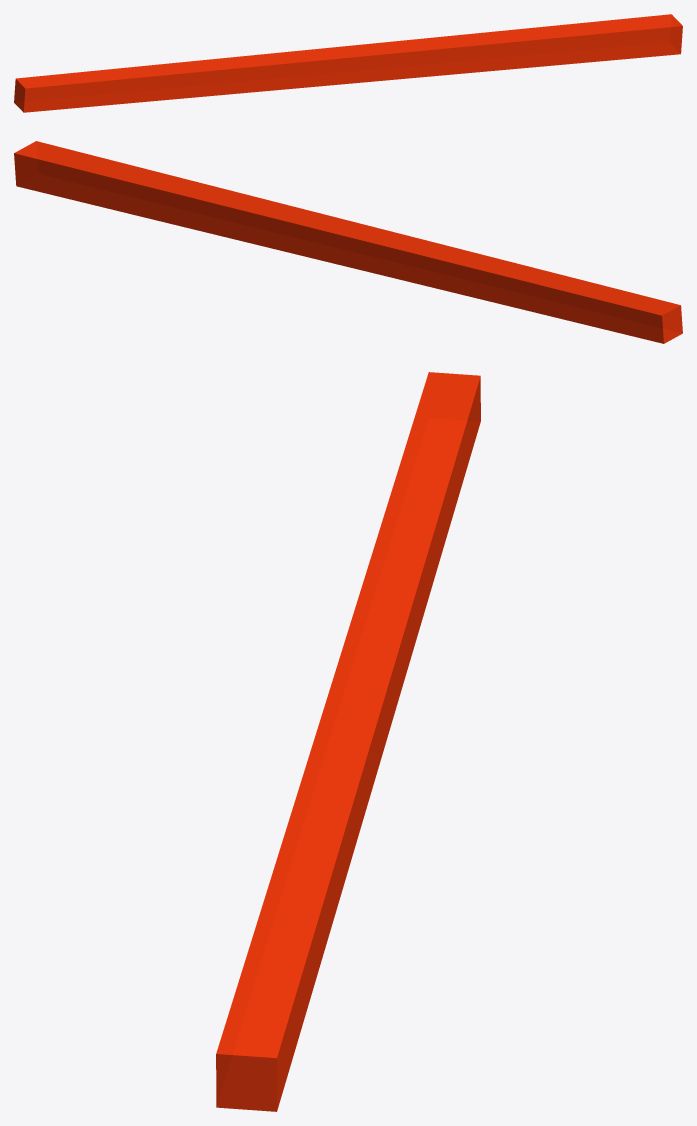
File: Event_420107950_EErechit_69.fbx
3 views of the same model, one above another, from view 1: azimuth 30°, elevation 25°; view 2: azimuth 150°, elevation 25°; view 3: azimuth 270°, elevation 25° (orthographic). The views are drawn at different scales.
Parts seen in each view (by area): view 1: Model; view 2: Model; view 3: Model.
Part boxes in pixels (bbox=[...]): Model: bbox=[14, 14, 682, 112]; Model: bbox=[14, 141, 682, 343]; Model: bbox=[216, 372, 480, 1111].
Size of the model in its own units: 1.94 by 0.2255 by 0.3654.
